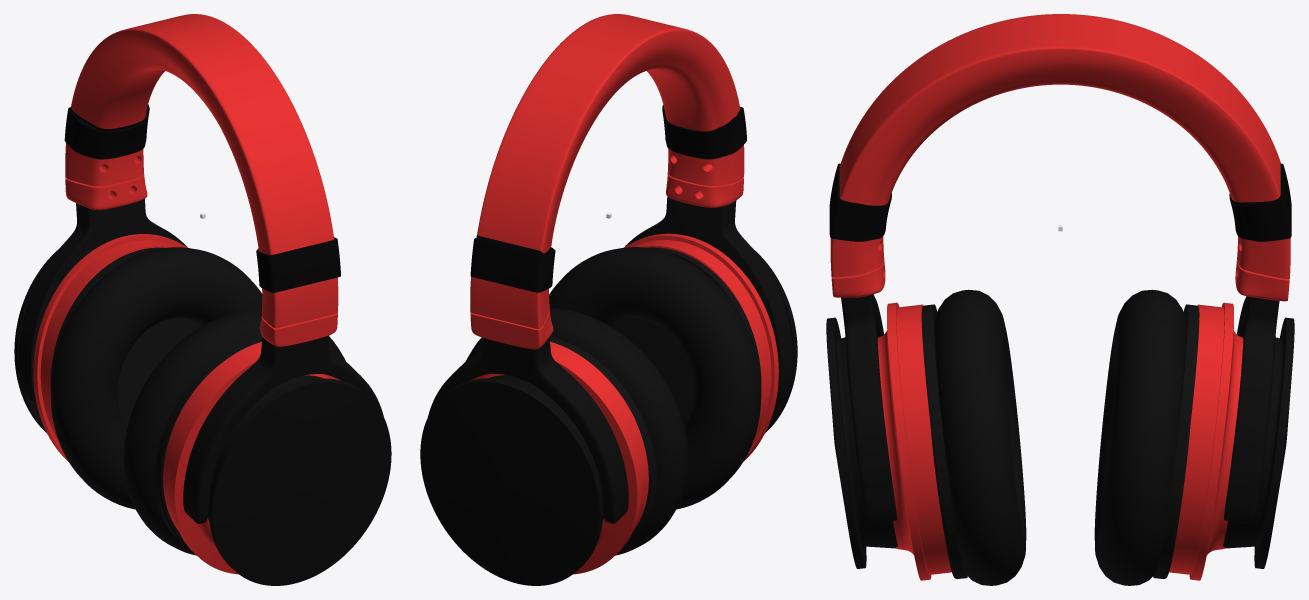
Rendered from headset.glb.
3 views of the same model, side by side, from view 1: azimuth 30°, elevation 25°; view 2: azimuth 150°, elevation 25°; view 3: azimuth 270°, elevation 25° (orthographic). The views are drawn at different scales.
Visible parts, largest first — view 1: Cylinder.004_6, NurbsCircle_8, Cylinder_2, Cylinder.003_5, Cylinder.001_3, Cylinder.002_4, Cylinder.005_9, Cylinder.006_10; view 2: Cylinder.004_6, NurbsCircle_8, Cylinder_2, Cylinder.003_5, Cylinder.001_3, Cylinder.002_4, Cylinder.006_10, Cylinder.005_9; view 3: Cylinder.004_6, NurbsCircle_8, Cylinder.001_3, Cylinder.003_5, Cylinder_2, Cylinder.002_4, Cylinder.005_9, Cylinder.006_10.
Boxes of the visible parts, bbox=[...] form: Cylinder.004_6: bbox=[65, 14, 338, 346]; NurbsCircle_8: bbox=[51, 247, 345, 555]; Cylinder_2: bbox=[14, 249, 391, 585]; Cylinder.003_5: bbox=[18, 199, 383, 523]; Cylinder.001_3: bbox=[33, 234, 340, 574]; Cylinder.002_4: bbox=[50, 247, 262, 550]; Cylinder.005_9: bbox=[256, 237, 340, 292]; Cylinder.006_10: bbox=[64, 104, 149, 159]; Cylinder.004_6: bbox=[470, 14, 744, 349]; NurbsCircle_8: bbox=[466, 247, 761, 555]; Cylinder_2: bbox=[420, 249, 797, 585]; Cylinder.003_5: bbox=[428, 196, 793, 523]; Cylinder.001_3: bbox=[471, 233, 778, 574]; Cylinder.002_4: bbox=[549, 247, 761, 550]; Cylinder.006_10: bbox=[470, 238, 555, 292]; Cylinder.005_9: bbox=[662, 105, 747, 159]; Cylinder.004_6: bbox=[830, 14, 1290, 301]; NurbsCircle_8: bbox=[935, 289, 1185, 585]; Cylinder.001_3: bbox=[877, 302, 1243, 580]; Cylinder.003_5: bbox=[841, 294, 1279, 522]; Cylinder_2: bbox=[826, 317, 1294, 568]; Cylinder.002_4: bbox=[921, 304, 1199, 578]; Cylinder.005_9: bbox=[829, 163, 891, 241]; Cylinder.006_10: bbox=[1229, 163, 1291, 241].
Bounding box in the file's own units: 2.62 × 5.56 × 4.34.
